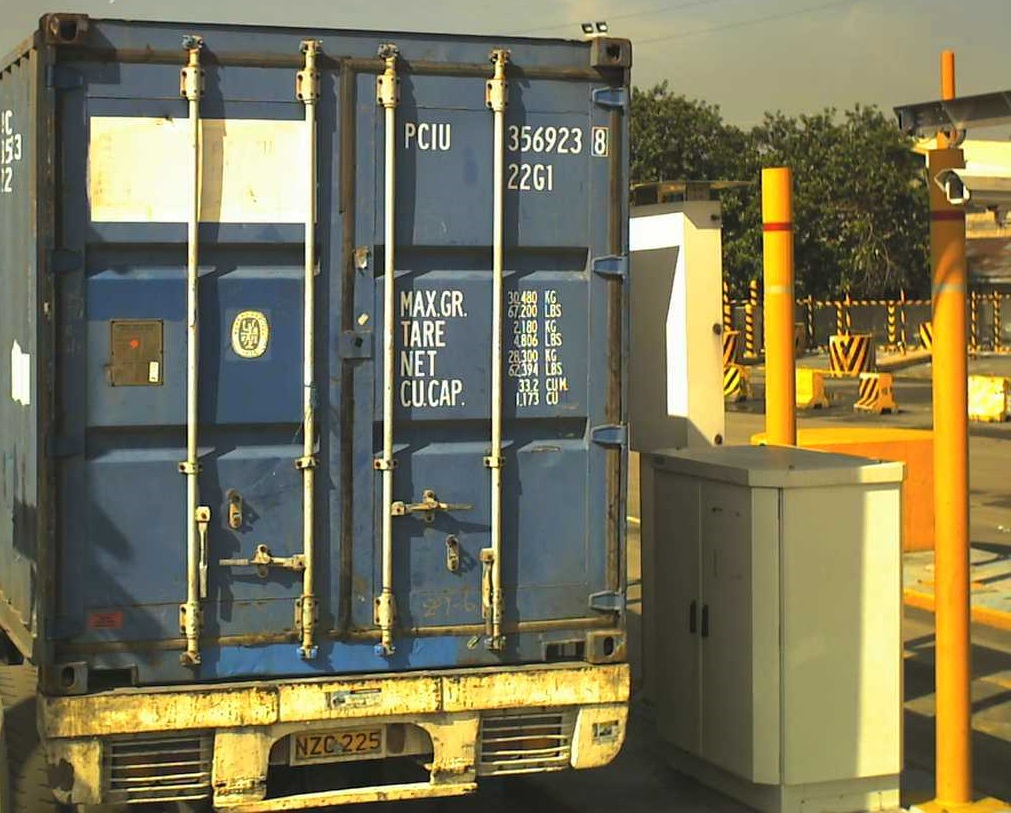container_door: (41, 2, 629, 685)
